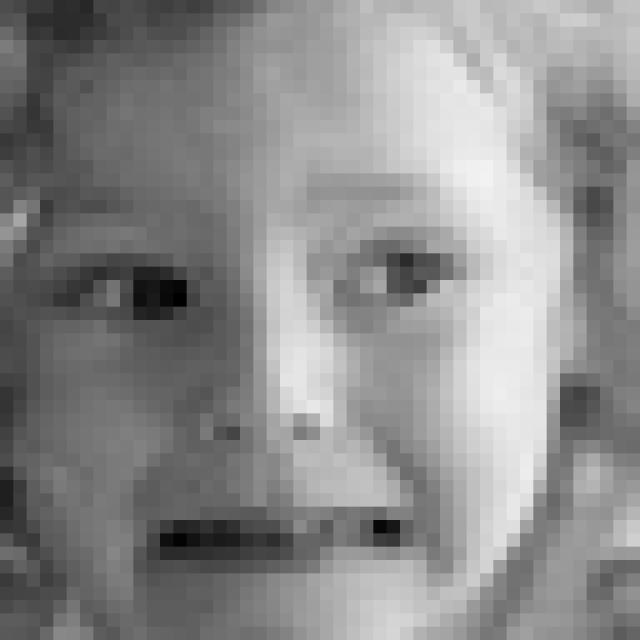fear: (33, 162, 503, 601)
